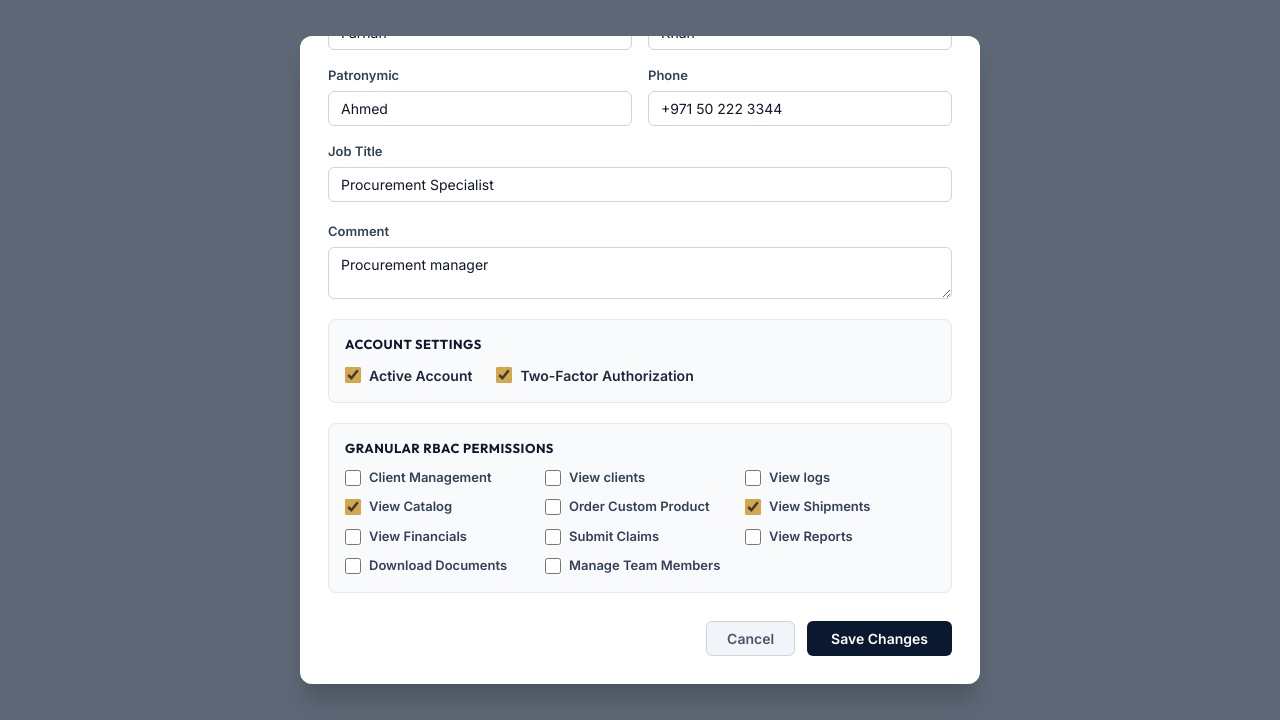
Test: Members Components & Page (FEAT-1.4) › EditMemberModal Component › displays default error banner when updateMember fails without error text
(page scrolled)
Click the button "Save Changes": [880, 638] box [807,621,952,656]
(page scrolled)
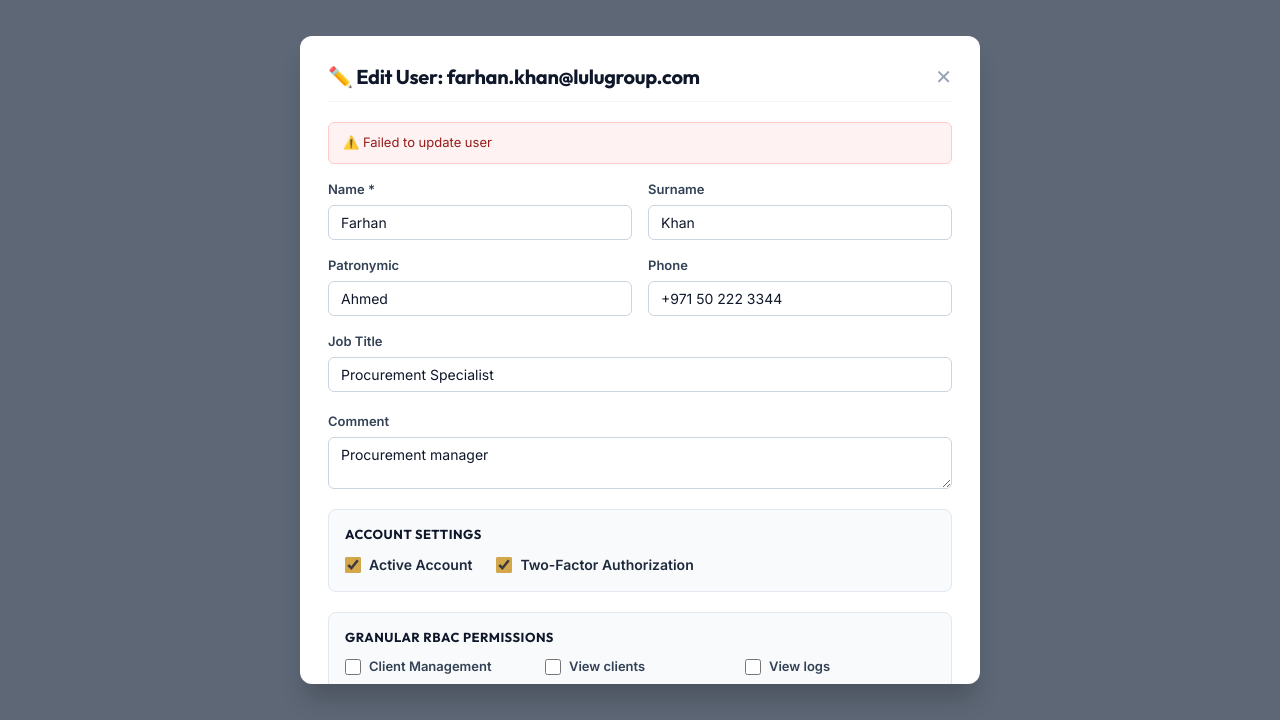
Now the text "⚠️ Failed to update user" is shown, box [328,122,952,164]
